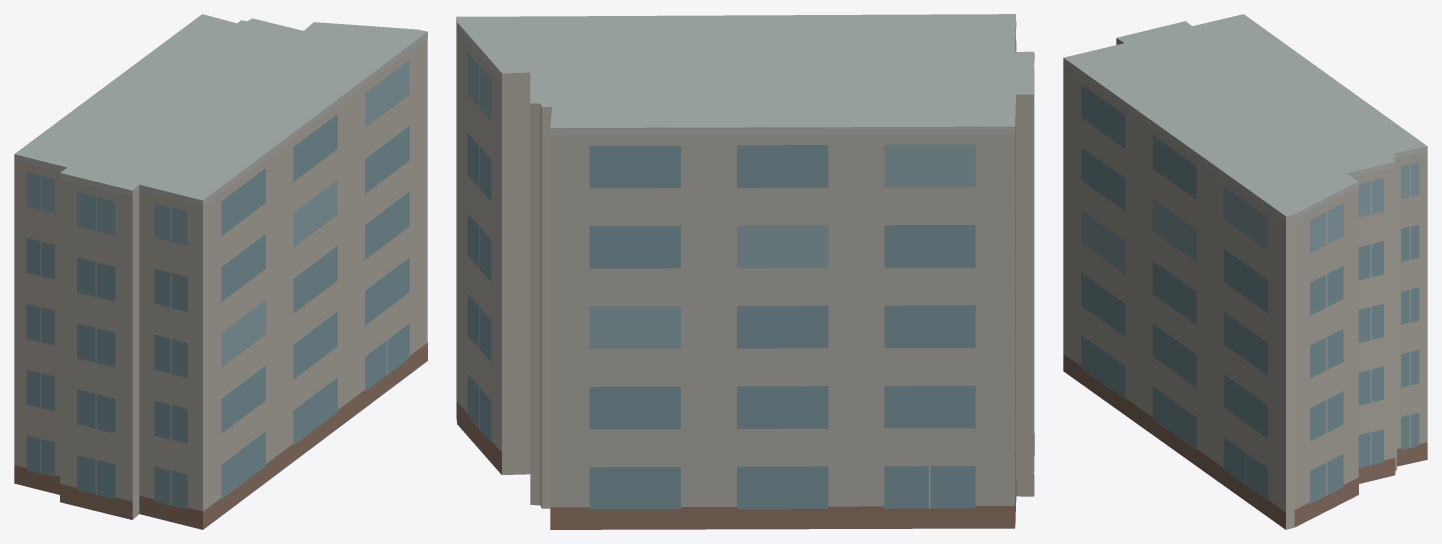
The model's file is survey-upis-32948047.glb.
3 views of the same model, side by side, from view 1: azimuth 30°, elevation 25°; view 2: azimuth 150°, elevation 25°; view 3: azimuth 270°, elevation 25° (orthographic). The views are drawn at different scales.
Visible parts, largest first — view 1: survey-upis-32948047.tmp; view 2: survey-upis-32948047.tmp; view 3: survey-upis-32948047.tmp.
Part boxes in pixels (x1,y1,x2,y2): survey-upis-32948047.tmp: (14, 14, 427, 529); survey-upis-32948047.tmp: (456, 14, 1034, 529); survey-upis-32948047.tmp: (1063, 14, 1427, 529).
Bounding box in the file's own units: 18.67 × 13.48 × 14.2.
